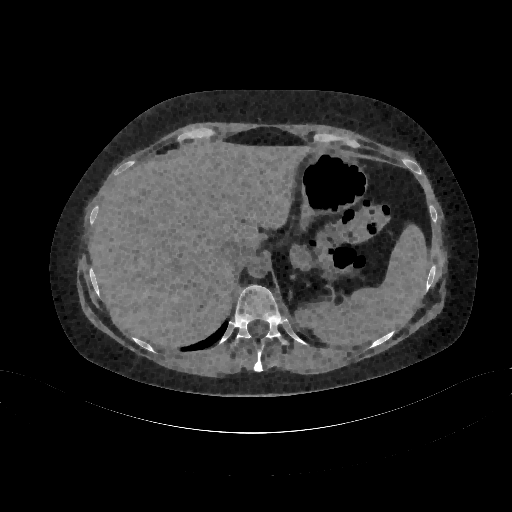Lesion: (360, 231, 374, 245)
